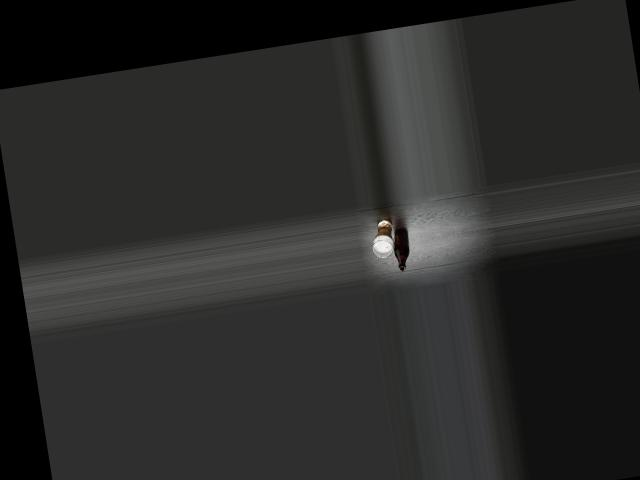beer: (390, 225, 414, 272)
